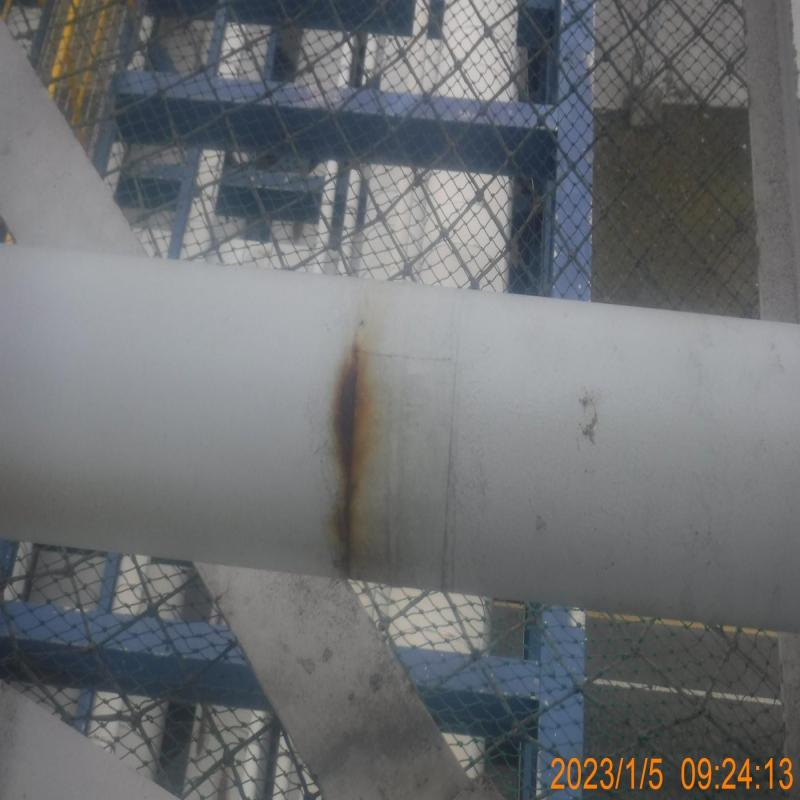corrosion: (333, 353, 366, 569)
